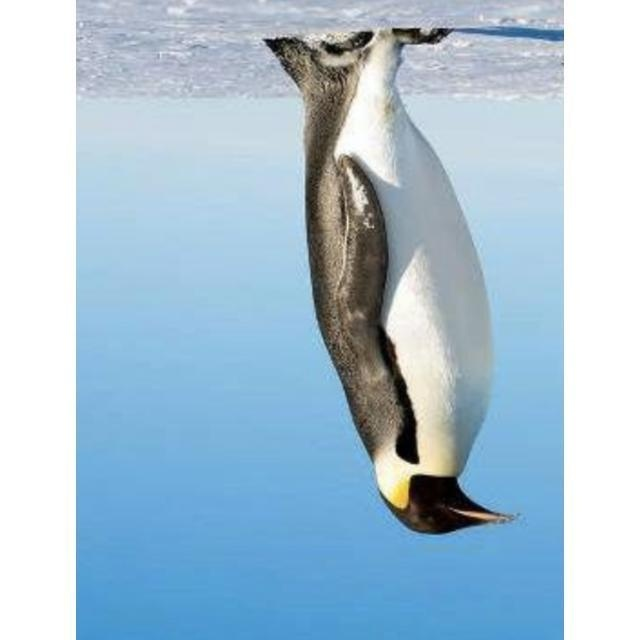penguin: (263, 27, 525, 536)
